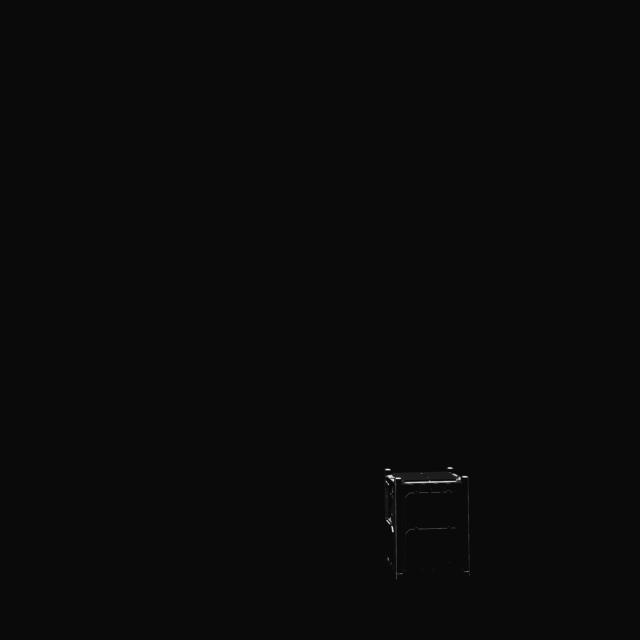satellite: (380, 458, 482, 598)
